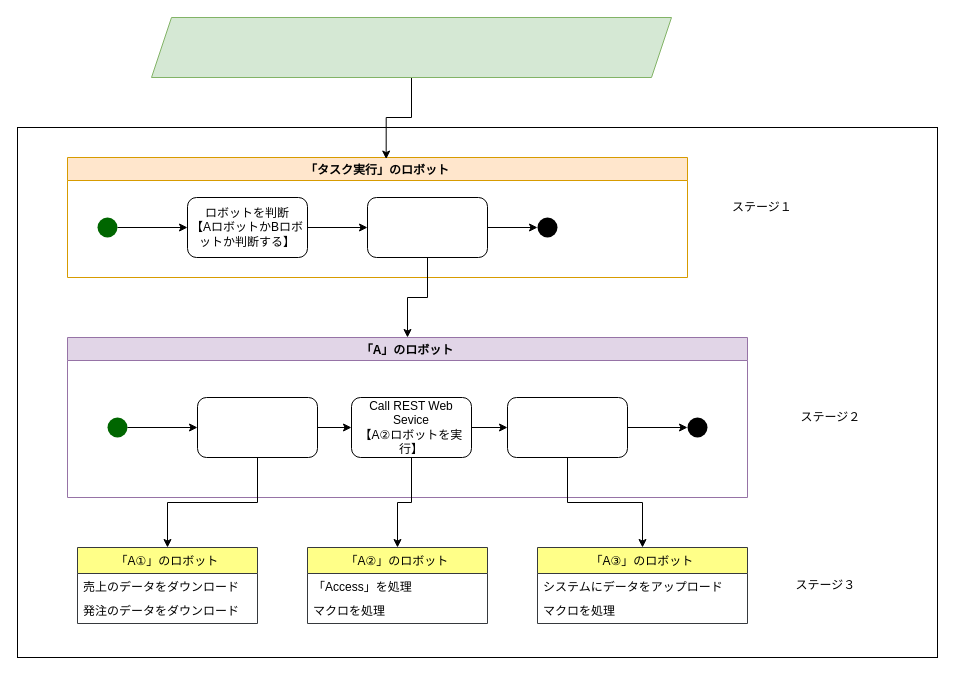
Some shapes in this 955 by 675 pixel diagram are drawn without their labels. The shapes that lost their labels are listed below. From the top down, each one's centre as x and y in pixels, then its label:
At pixel 411 47: "ウエブから「実行」ボタンを押す、「タスク実行」のロボットを実行させます".
At pixel 427 227: "Call REST Web Sevice 【Aロボットを実行】".
At pixel 257 427: "Call REST Web Sevice 【A①のロボットを実行】".
At pixel 567 427: "Call REST Web Sevice 【A③ロボットを実行】".
